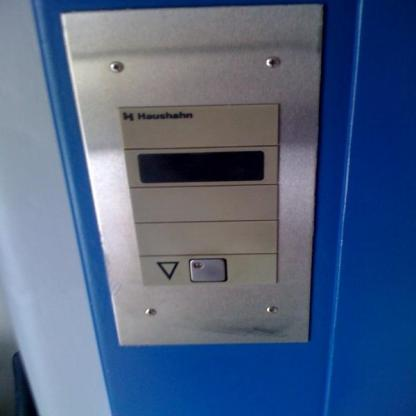down: (134, 251, 280, 286)
led: (134, 149, 268, 183)
